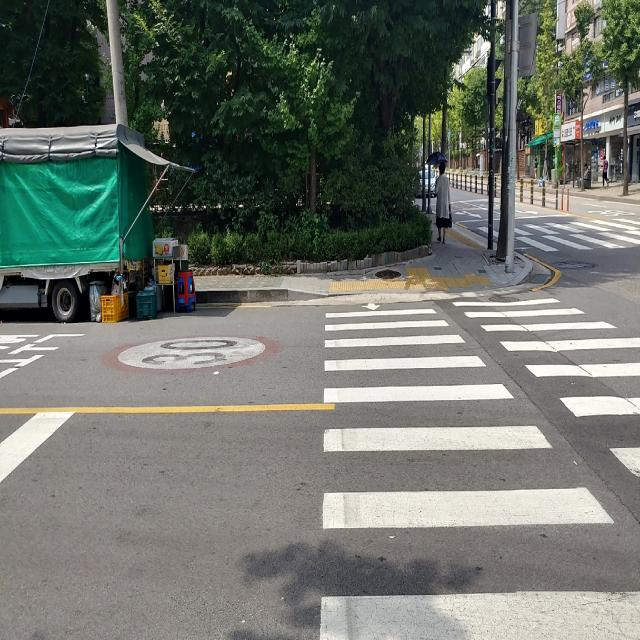횡단보도: (318, 296, 640, 640), (520, 215, 638, 257)
